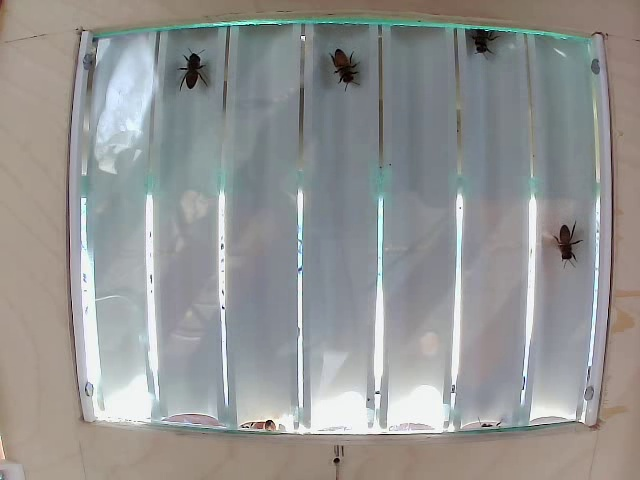bee: (329, 47, 386, 100), (466, 14, 515, 74), (548, 211, 590, 266), (181, 54, 232, 93)
